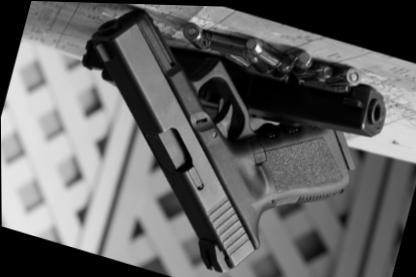pistol: (41, 0, 380, 275), (76, 6, 393, 162)
